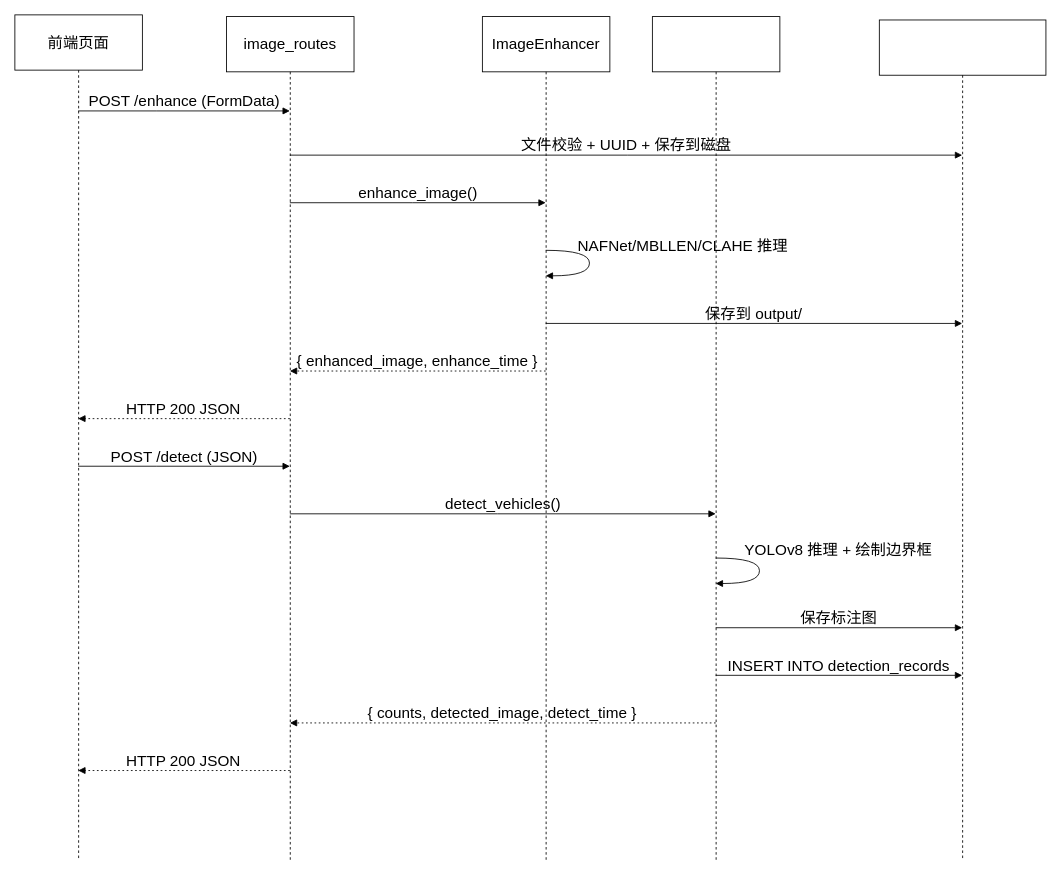
This 1061x875 diagram has some shape labels left out. Each missing label, with the box of its shape:
MySQL / FileSystem: (878, 19, 1046, 860)
VehicleDetector: (652, 16, 780, 860)
